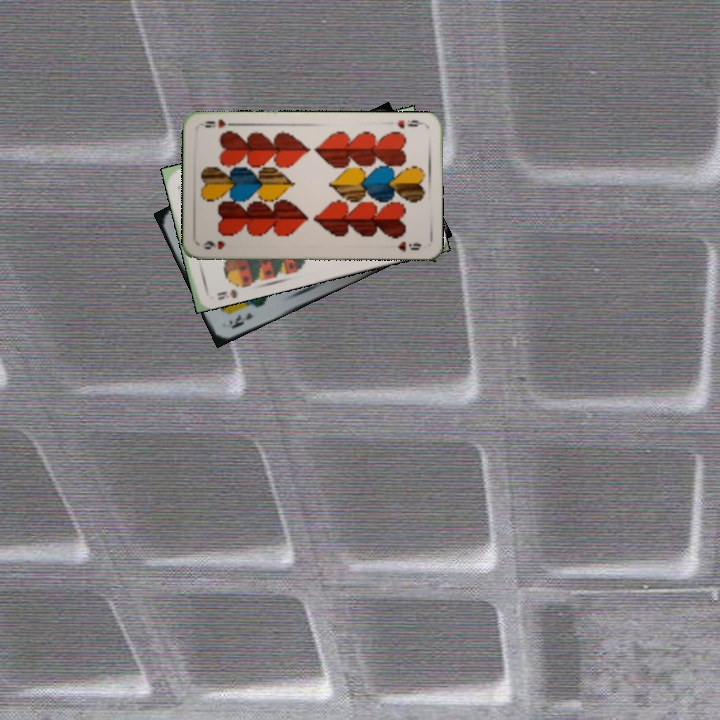EK: (225, 308, 255, 331)
H9: (394, 116, 426, 131), (200, 237, 228, 252)
S9: (212, 278, 248, 303)
